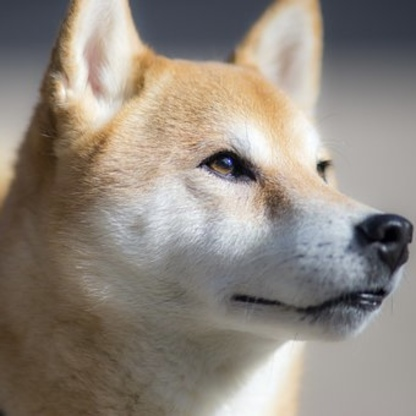shiba: (1, 1, 416, 416)
